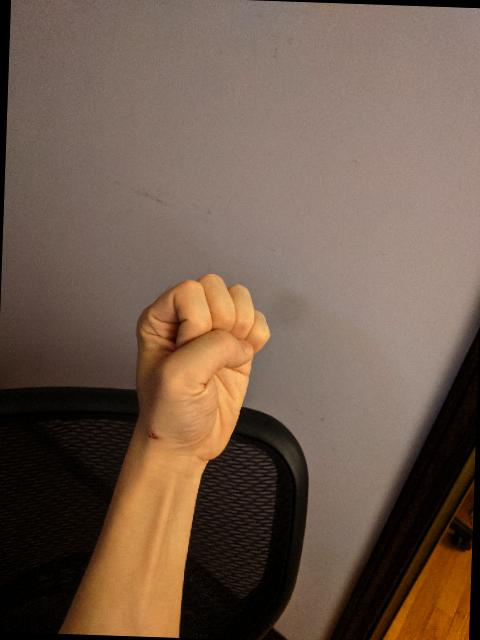E: (128, 265, 277, 466)
